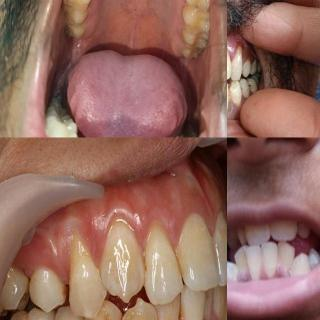Gum Swelling: (85, 206, 158, 274), (32, 217, 80, 283), (227, 40, 253, 66), (227, 101, 245, 123)
calculus: (234, 40, 245, 56)
cavities: (192, 47, 204, 60)
maligned: (100, 212, 146, 303), (180, 282, 207, 320), (118, 296, 158, 320), (239, 217, 267, 251), (268, 218, 296, 248), (231, 244, 249, 290), (246, 243, 262, 288), (275, 243, 296, 276), (236, 219, 250, 249), (294, 251, 310, 274), (298, 219, 309, 244), (227, 259, 238, 283), (227, 48, 233, 86), (227, 77, 231, 107)
stains: (237, 80, 245, 100), (227, 80, 233, 106), (243, 55, 251, 71)
